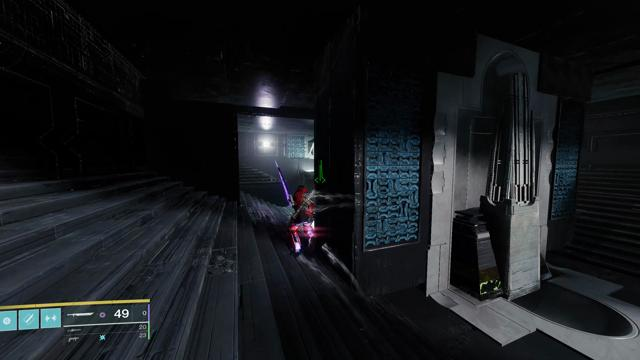grief: (308, 138, 314, 156)
